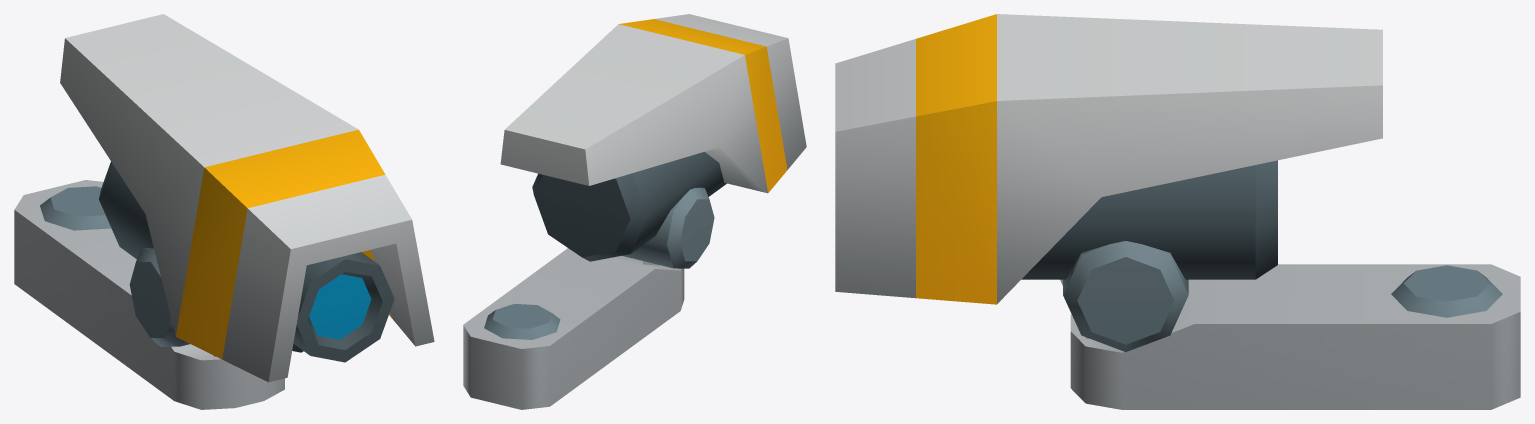
Rendered from Cam_008.fbx.
The picture shows the model from 3 angles, left to right: view 1: azimuth 30°, elevation 25°; view 2: azimuth 150°, elevation 25°; view 3: azimuth 270°, elevation 25°; orthographic projection. The views are drawn at different scales.
Visible parts, largest first — view 1: Cam_008; view 2: Cam_008; view 3: Cam_008.
Boxes of the visible parts, x1,y1,x2,y2 form: Cam_008: [14, 14, 434, 409]; Cam_008: [463, 14, 806, 409]; Cam_008: [835, 14, 1520, 409].
Bounding box in the file's own units: 19.18 × 46.6 × 24.21.
